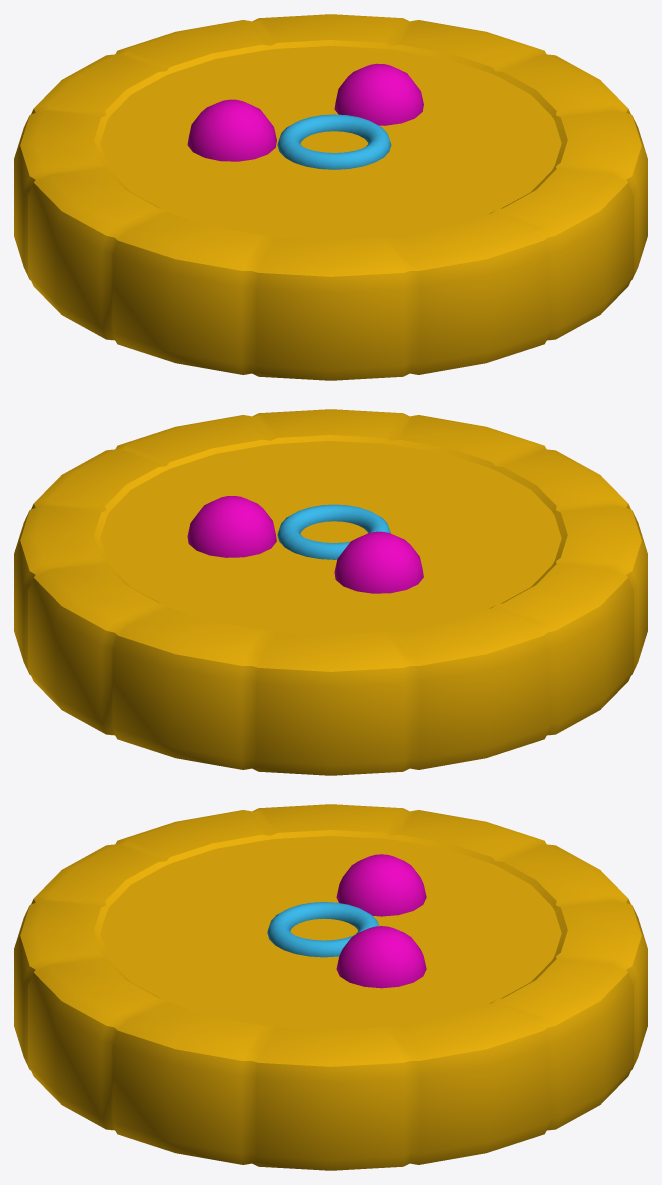
Rendered from COINY.glb.
3 views of the same model, one above another, from view 1: azimuth 30°, elevation 25°; view 2: azimuth 150°, elevation 25°; view 3: azimuth 270°, elevation 25° (orthographic).
Visible parts, largest first — view 1: COINY; view 2: COINY; view 3: COINY.
Boxes of the visible parts, x1=… form: COINY: x1=14, y1=14, x2=647, y2=380; COINY: x1=14, y1=409, x2=647, y2=775; COINY: x1=14, y1=804, x2=647, y2=1170.
Bounding box in the file's own units: 0.5 × 0.131 × 0.5.
